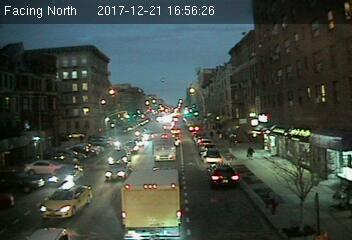car: (41, 179, 92, 217), (206, 164, 240, 187), (48, 164, 85, 182), (103, 162, 133, 180), (107, 148, 132, 163), (202, 149, 223, 164)
truck: (119, 166, 185, 239), (151, 129, 178, 161)
